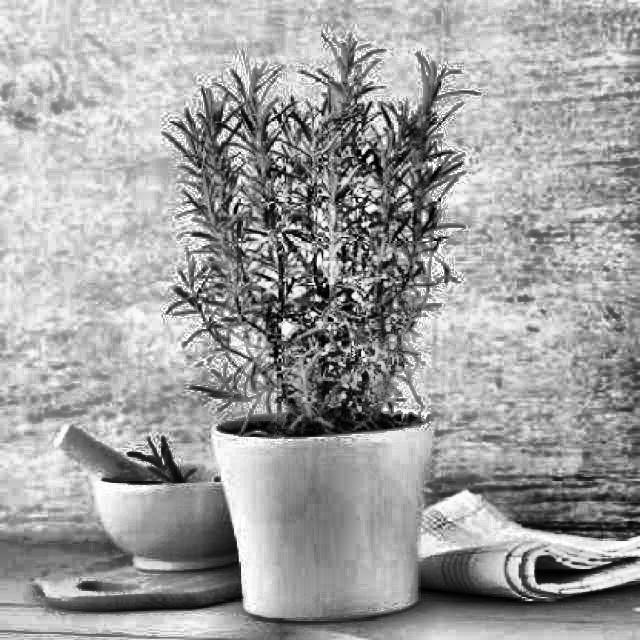plants: (191, 78, 427, 608)
